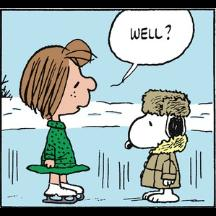snoopy: (124, 88, 192, 204)
